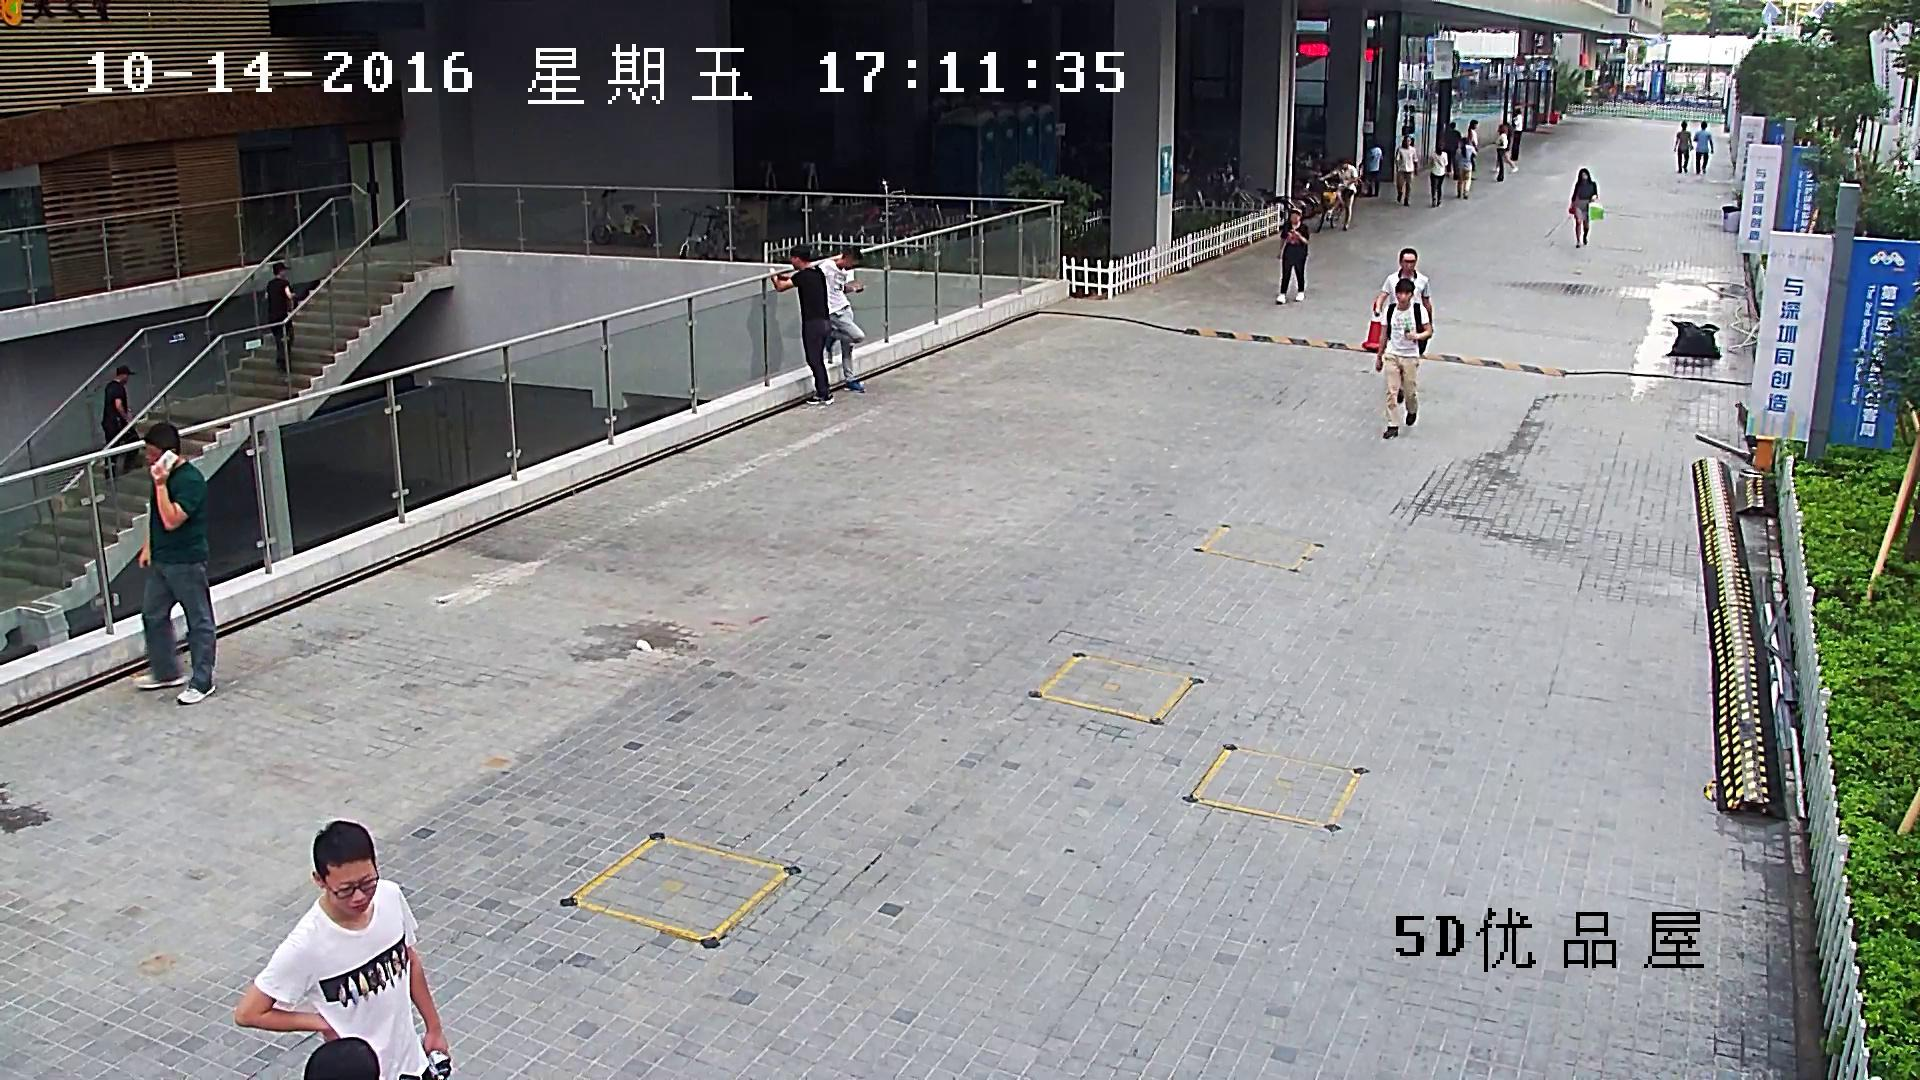person: (234, 821, 450, 1080), (134, 421, 216, 703), (769, 244, 833, 404), (1374, 248, 1432, 403), (1376, 278, 1431, 438), (818, 247, 865, 393), (101, 365, 143, 478), (265, 261, 296, 373), (1277, 208, 1308, 303), (1568, 167, 1604, 248), (1317, 161, 1358, 231), (1318, 158, 1357, 230), (1395, 135, 1417, 206), (1454, 137, 1477, 198), (1491, 122, 1518, 173), (1429, 141, 1448, 207), (1694, 120, 1713, 175), (1673, 121, 1693, 173), (1364, 146, 1383, 197), (1445, 122, 1462, 177), (1494, 124, 1508, 183), (1468, 119, 1477, 180), (1511, 108, 1522, 161)
